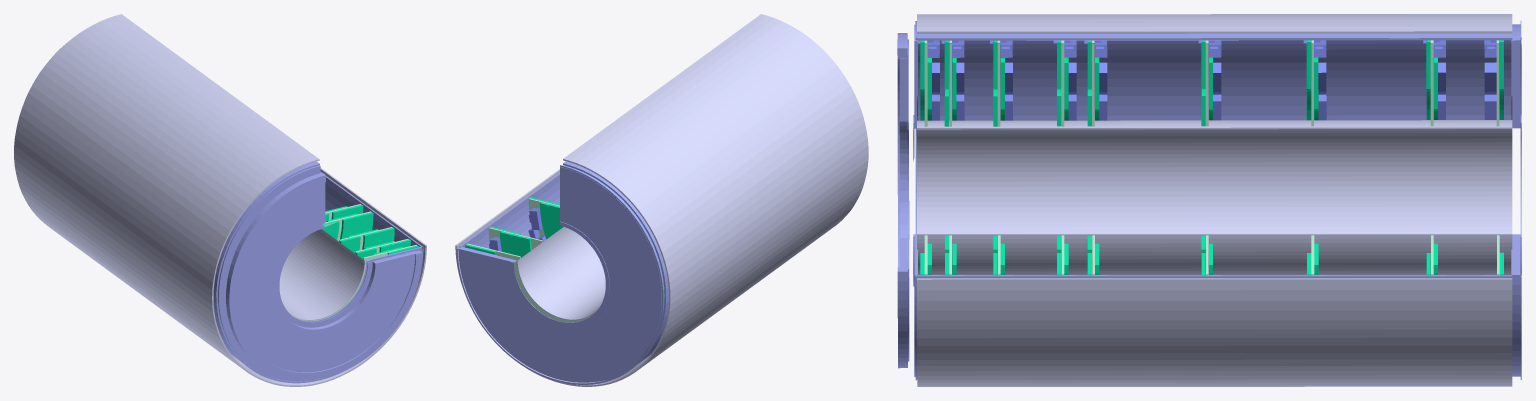
The model's file is SCT-SideC-cut3-transformed.glb.
3 renders of one model, left to right at view 1: azimuth 30°, elevation 25°; view 2: azimuth 150°, elevation 25°; view 3: azimuth 270°, elevation 25°, orthographic. The views are drawn at different scales.
Visible parts, largest first — view 1: null; view 2: null; view 3: null.
Part boxes in pixels (x1,y1,x2,y2): null: [14, 14, 426, 386]; null: [455, 14, 868, 386]; null: [897, 14, 1521, 386].
Bounding box in the file's own units: 1.22 × 1.22 × 2.04.
